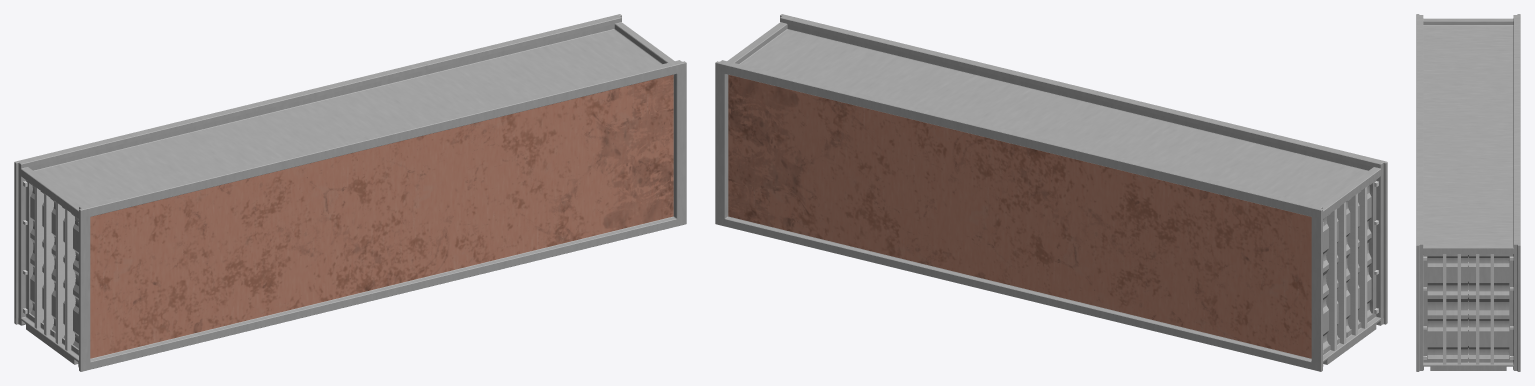
The model's file is orangeBigCrate.fbx.
3 renders of one model, left to right at view 1: azimuth 30°, elevation 25°; view 2: azimuth 150°, elevation 25°; view 3: azimuth 270°, elevation 25°, orthographic. The views are drawn at different scales.
Parts seen in each view (by area): view 1: orangeCrateBig_lo; view 2: orangeCrateBig_lo; view 3: orangeCrateBig_lo.
Boxes of the visible parts, box(x1,y1,x2,y2) form: orangeCrateBig_lo: box(14, 14, 686, 371); orangeCrateBig_lo: box(715, 14, 1387, 371); orangeCrateBig_lo: box(1416, 14, 1520, 371).
Size of the model in its own units: 12.1 by 3.09 by 2.3.
